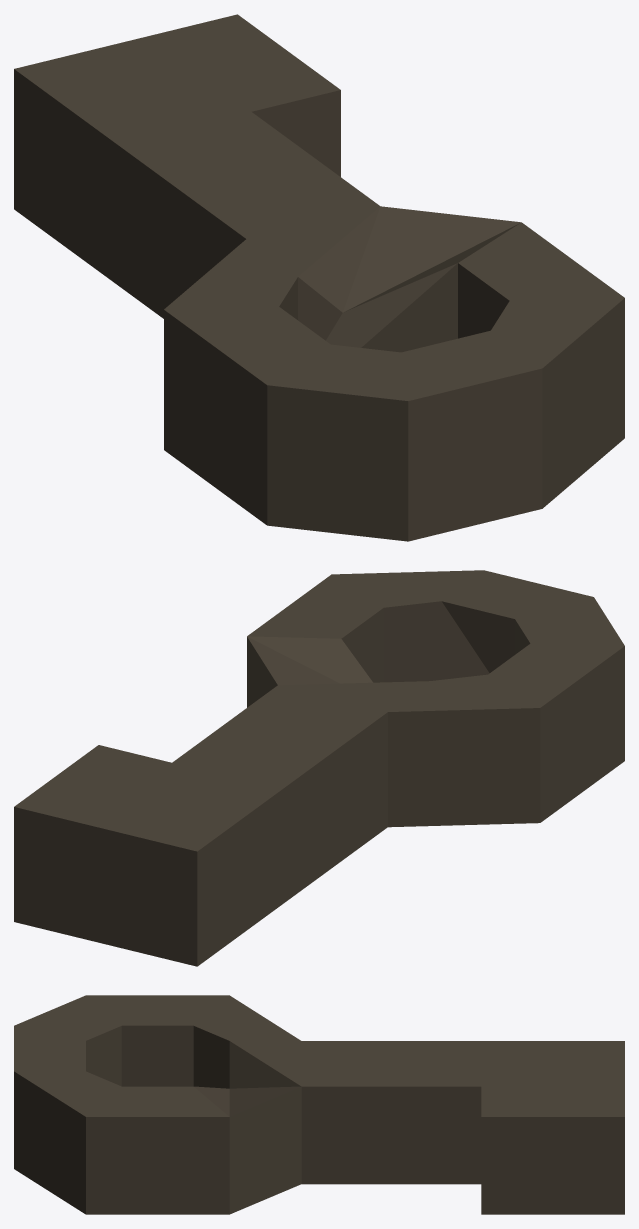
The model's file is key.glb.
The picture shows the model from 3 angles, top to bottom: view 1: azimuth 30°, elevation 25°; view 2: azimuth 150°, elevation 25°; view 3: azimuth 270°, elevation 25°; orthographic projection. The views are drawn at different scales.
Parts seen in each view (by area): view 1: Mesh_0.004; view 2: Mesh_0.004; view 3: Mesh_0.004.
Boxes of the visible parts, <box> form: Mesh_0.004: <box>14,14,624,541</box>; Mesh_0.004: <box>14,570,624,966</box>; Mesh_0.004: <box>14,995,624,1214</box>.
Bounding box in the file's own units: 2 × 0.75 × 4.25.
Materials: 1 (1 with a texture image).
